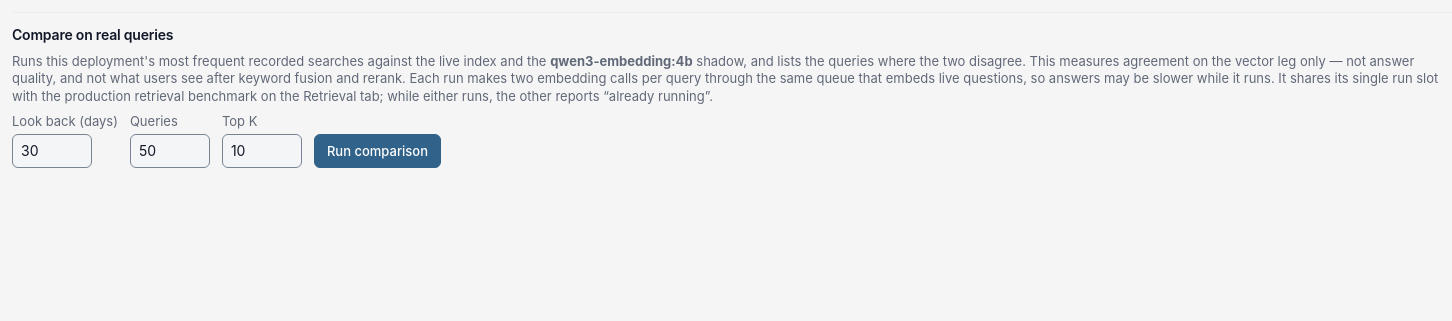
EmbeddingShadowCompareSection (#1260) › says so when the two models fully agree instead of rendering an empty list
This screenshot has width=1452, height=321.
Click the button with test id "shadow-compare-start". click: point(377, 151)
box: [314, 134, 441, 168]
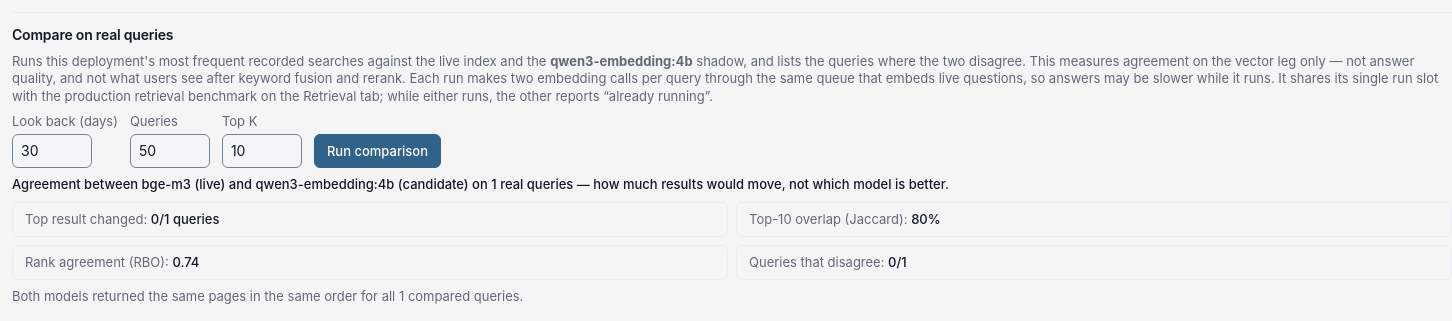
Now the text "same pages" is shown, box [12, 288, 399, 304]
